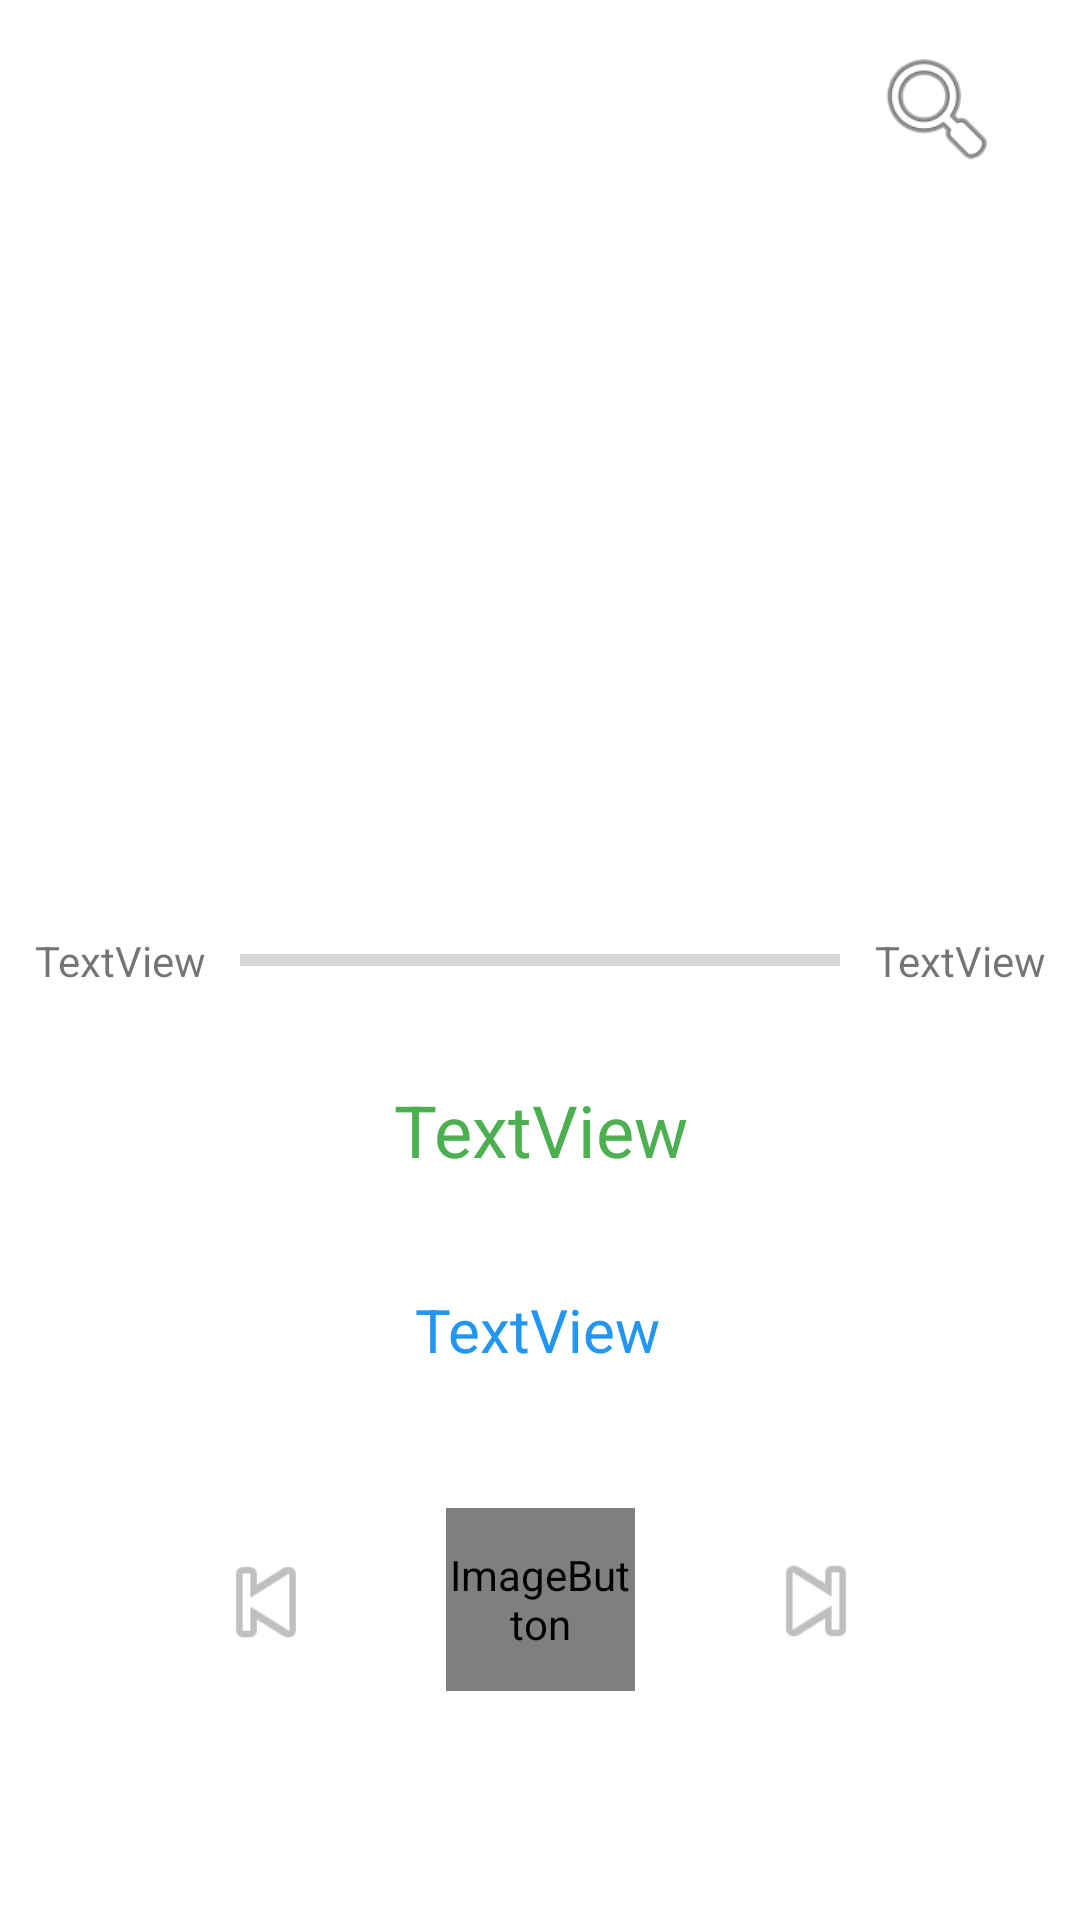

Icons on this 1080*1920 Android screen, each with its box as box(x1, y1, x2, y2):
search: box(887, 59, 987, 159)
